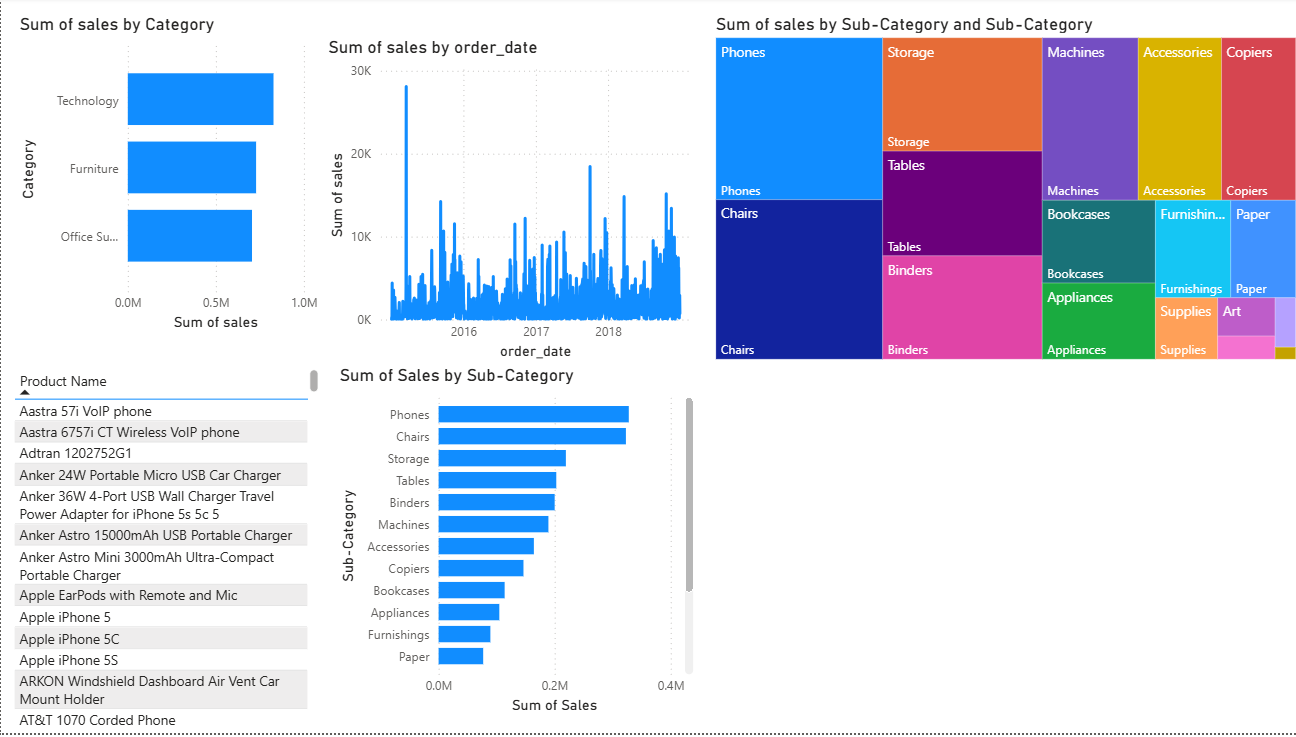

The page's visual inventory and layout, read from the dashboard file:
{"tool":"powerbi","page":{"name":"Product & Category Analysis","canvas":[1280,720],"ordinal":2},"visuals":[{"type":"barChart","fields":{"Y":["Sum(vw_clean_sales.sales)"],"Category":["vw_clean_sales.Category"]},"box":[13.5,15.9,302,315.5],"z":0},{"type":"barChart","fields":{"Category":["clean_sales_data.Sub-Category"],"Y":["Sum(clean_sales_data.Sales)"]},"box":[326.5,359.5,355.8,346.1],"z":1000},{"type":"treemap","fields":{"Group":["clean_sales_data.Sub-Category"],"Values":["Sum(vw_clean_sales.sales)"],"Details":["vw_clean_sales.Sub-Category"]},"box":[694.6,15.9,577.2,343.6],"z":2000},{"type":"tableEx","fields":{"Values":["clean_sales_data.Product Name"]},"box":[7.3,359.5,308.2,360.7],"z":3000},{"type":"lineChart","fields":{"Category":["vw_clean_sales.order_date.Variation.Date Hierarchy.Month"],"Y":["Sum(vw_clean_sales.sales)"]},"box":[315.5,39.1,366.8,320.4],"z":4000}]}

Visuals, with their boxes in screenshot pixels (x1, y1, x2, y2), scaled from the page's 1280x720 canvas onto the 1296x737 screenshot:
barChart - Sum(vw_clean_sales.sales) x vw_clean_sales.Category: 14:16:319:339
barChart - clean_sales_data.Sub-Category x Sum(clean_sales_data.Sales): 331:368:691:722
treemap - clean_sales_data.Sub-Category x Sum(vw_clean_sales.sales): 703:16:1288:368
tableEx - clean_sales_data.Product Name: 7:368:319:736
lineChart - vw_clean_sales.order_date.Variation.Date Hierarchy.Month x Sum(vw_clean_sales.sales): 319:40:691:368
